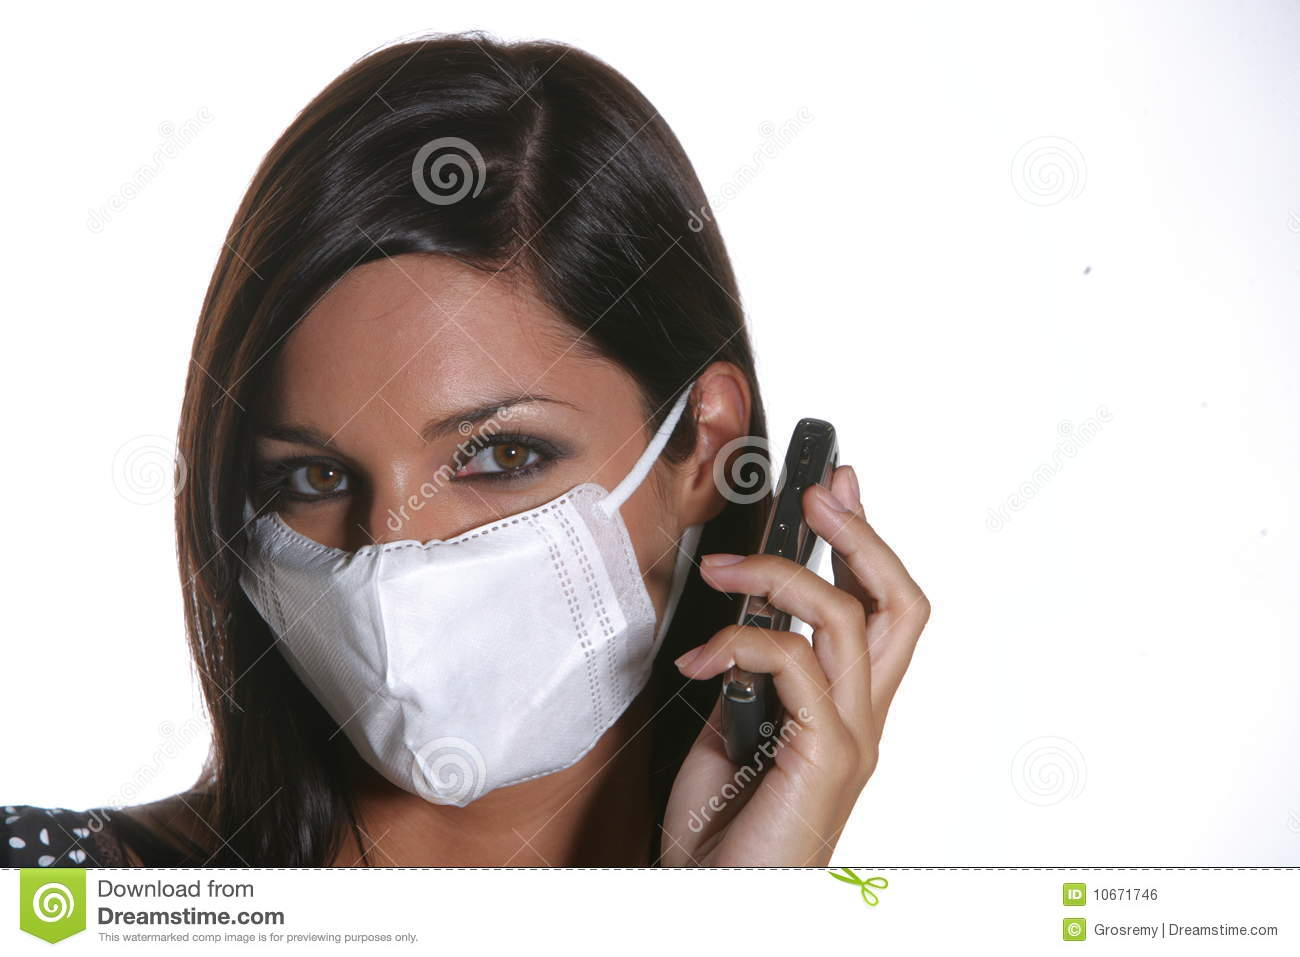mask: (229, 492, 663, 795)
